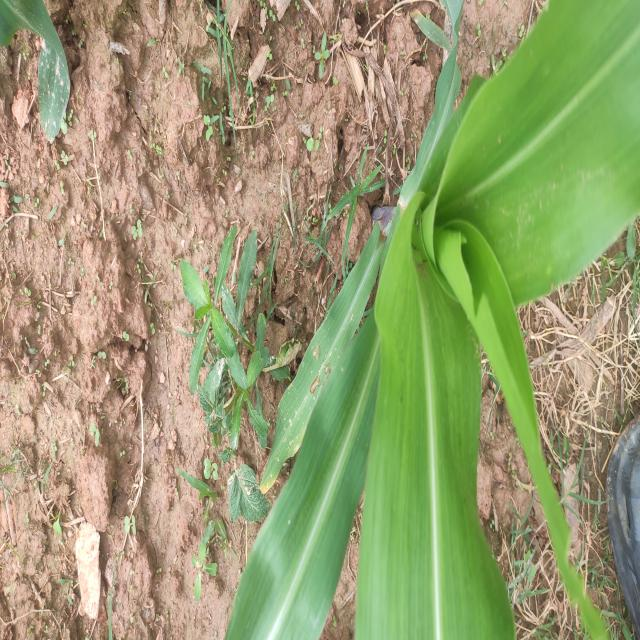maize: (259, 0, 640, 640), (0, 2, 98, 128)
weed: (170, 224, 277, 450), (182, 7, 336, 146), (58, 504, 141, 622), (494, 496, 553, 633), (539, 419, 600, 516), (320, 156, 384, 233), (603, 213, 640, 303)
